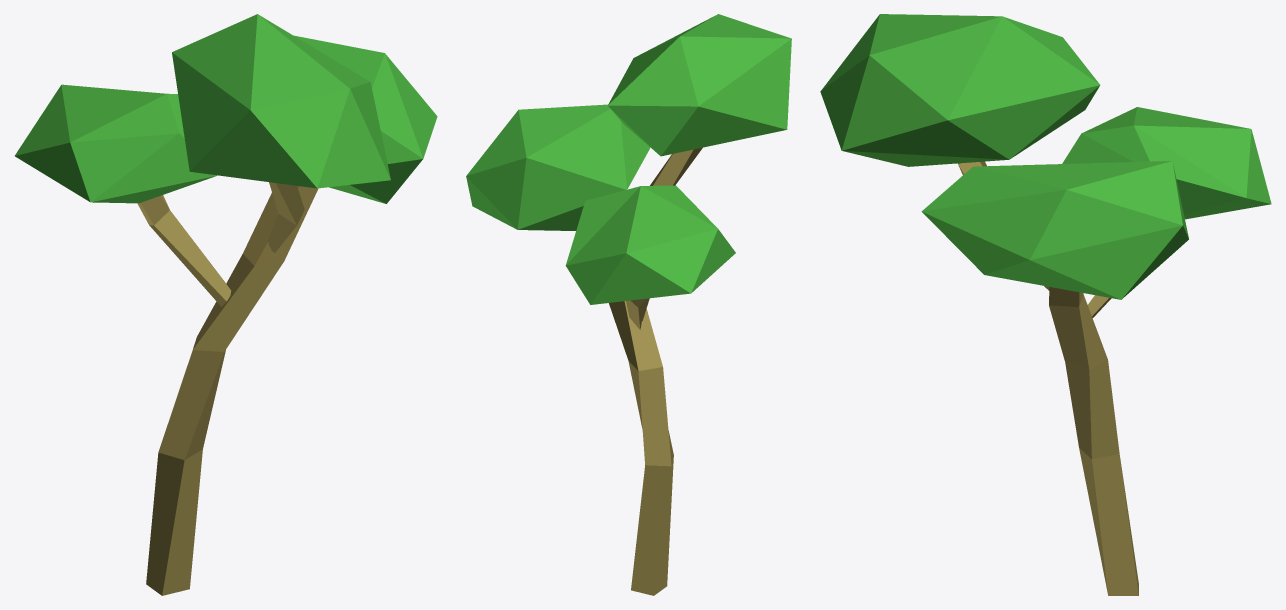
File: Tree_5.fbx
3 renders of one model, left to right at view 1: azimuth 30°, elevation 25°; view 2: azimuth 150°, elevation 25°; view 3: azimuth 270°, elevation 25°, orthographic. The views are drawn at different scales.
Parts seen in each view (by area): view 1: Leaves, Leaves.001, Trunk, Leaves.002, Trunk.001, Trunk.002; view 2: Leaves, Leaves.002, Leaves.001, Trunk, Trunk.002, Trunk.001; view 3: Leaves, Leaves.002, Leaves.001, Trunk.
Part boxes in pixels (bbox=[...]): Leaves: bbox=[172, 14, 390, 188]; Leaves.001: bbox=[15, 84, 217, 203]; Trunk: bbox=[146, 186, 318, 595]; Leaves.002: bbox=[294, 35, 437, 203]; Trunk.001: bbox=[137, 195, 231, 306]; Trunk.002: bbox=[267, 182, 304, 252]; Leaves: bbox=[608, 14, 791, 156]; Leaves.002: bbox=[466, 104, 650, 230]; Leaves.001: bbox=[565, 185, 735, 304]; Trunk: bbox=[609, 301, 673, 595]; Trunk.002: bbox=[650, 147, 702, 185]; Trunk.001: bbox=[626, 298, 649, 329]; Leaves: bbox=[820, 14, 1100, 166]; Leaves.002: bbox=[921, 161, 1188, 299]; Leaves.001: bbox=[1062, 107, 1271, 219]; Trunk: bbox=[1049, 287, 1138, 595].
Size of the model in its own units: 217 by 395 by 276.
